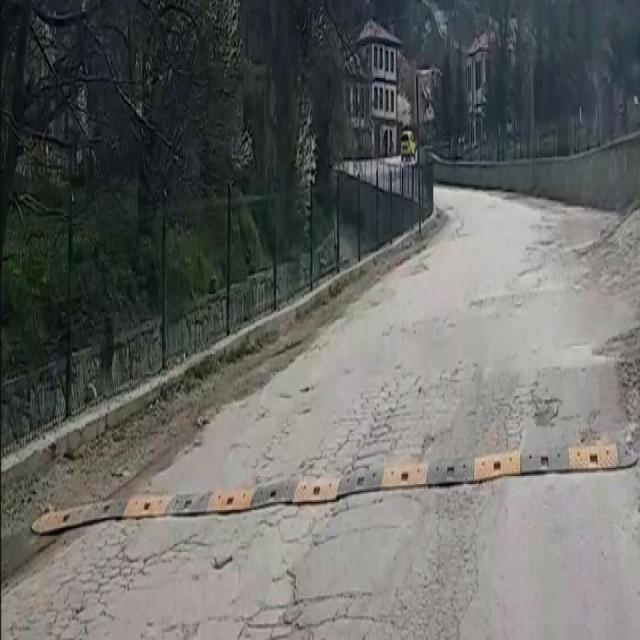speedbreaker: (30, 442, 640, 536)
